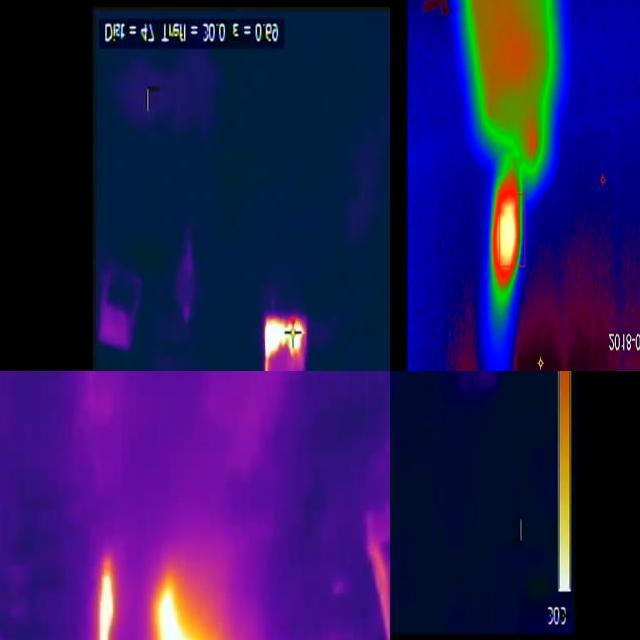fire: (492, 166, 524, 312), (149, 566, 190, 640), (93, 554, 123, 640), (263, 317, 309, 372)
